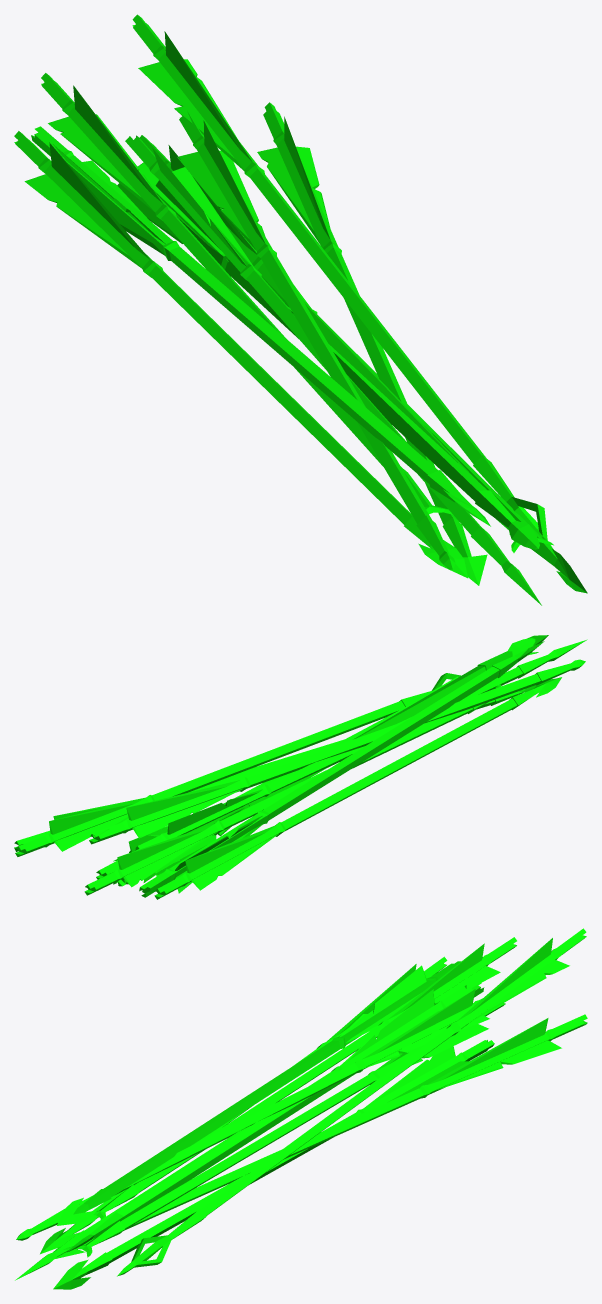
The model's file is SM_Arrow_Pile_Color_A.fbx.
3 renders of one model, top to bottom at view 1: azimuth 30°, elevation 25°; view 2: azimuth 150°, elevation 25°; view 3: azimuth 330°, elevation 25°, orthographic. The views are drawn at different scales.
Parts seen in each view (by area): view 1: arrow-pile-color-a; view 2: arrow-pile-color-a; view 3: arrow-pile-color-a.
Part boxes in pixels (x1,y1,x2,y2): arrow-pile-color-a: (14, 14, 587, 605); arrow-pile-color-a: (14, 635, 587, 899); arrow-pile-color-a: (15, 928, 587, 1289).
Size of the model in its own units: 0.3655 by 0.1589 by 1.21.
